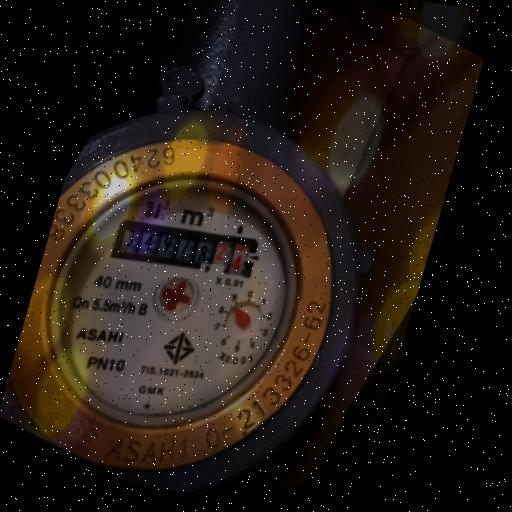2: (213, 241, 231, 267)
3: (119, 226, 140, 254)
4: (229, 241, 250, 274), (139, 229, 159, 257)
7: (175, 235, 196, 261)
8: (195, 240, 214, 265)
9: (157, 233, 177, 259)
border_water_meter_number: (108, 206, 265, 292)
